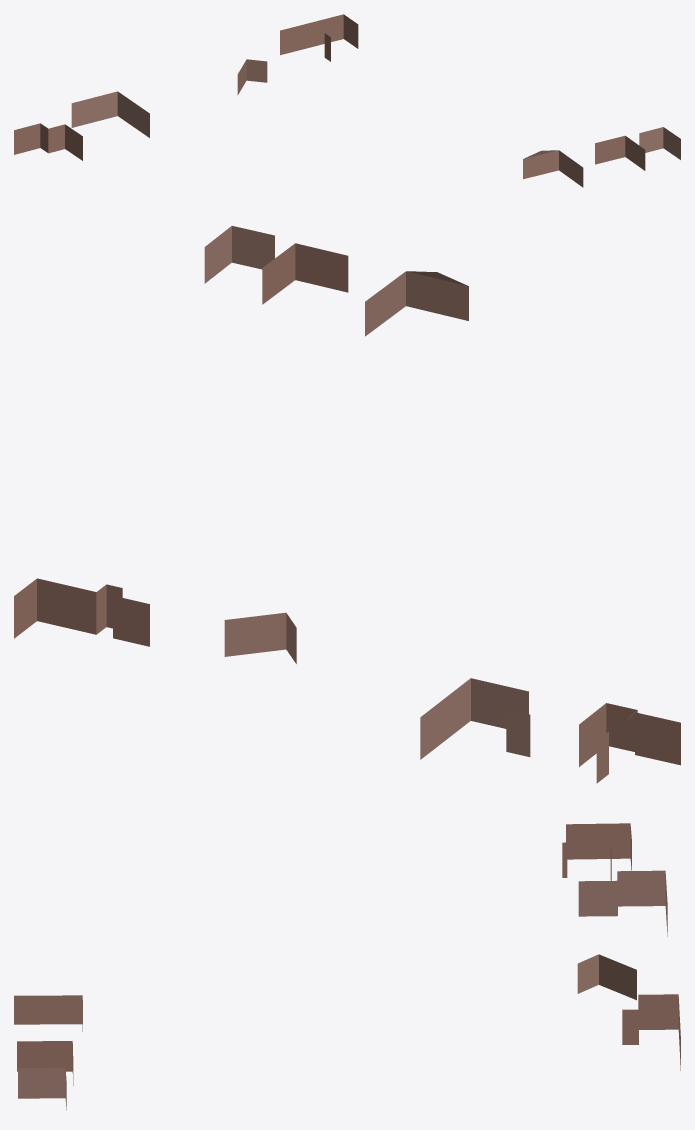
Rendered from c_1636_17826_buildings_residential.glb.
3 views of the same model, one above another, from view 1: azimuth 30°, elevation 25°; view 2: azimuth 150°, elevation 25°; view 3: azimuth 270°, elevation 25° (orthographic). The views are drawn at different scales.
Visible parts, largest first — view 1: geometry_0; view 2: geometry_0; view 3: geometry_0.
Boxes of the visible parts, bbox=[...] form: geometry_0: bbox=[14, 14, 680, 187]; geometry_0: bbox=[14, 226, 680, 783]; geometry_0: bbox=[14, 823, 680, 1110].
Bounding box in the file's own units: 211 × 27.88 × 188.
